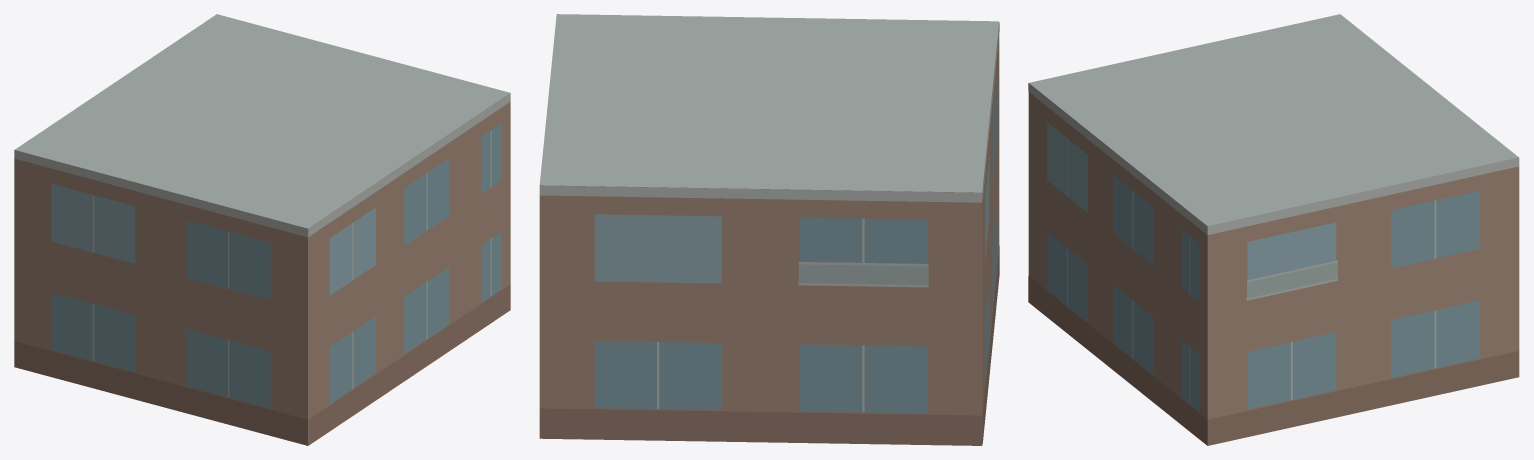
Rendered from survey-upis-32677033.glb.
The picture shows the model from 3 angles, left to right: view 1: azimuth 30°, elevation 25°; view 2: azimuth 150°, elevation 25°; view 3: azimuth 270°, elevation 25°; orthographic projection. The views are drawn at different scales.
Visible parts, largest first — view 1: survey-upis-32677033.tmp; view 2: survey-upis-32677033.tmp; view 3: survey-upis-32677033.tmp.
Boxes of the visible parts, x1=… form: survey-upis-32677033.tmp: x1=14, y1=14, x2=510, y2=445; survey-upis-32677033.tmp: x1=539, y1=14, x2=999, y2=445; survey-upis-32677033.tmp: x1=1028, y1=14, x2=1519, y2=445.
Bounding box in the file's own units: 12.67 × 6.1 × 12.37.
